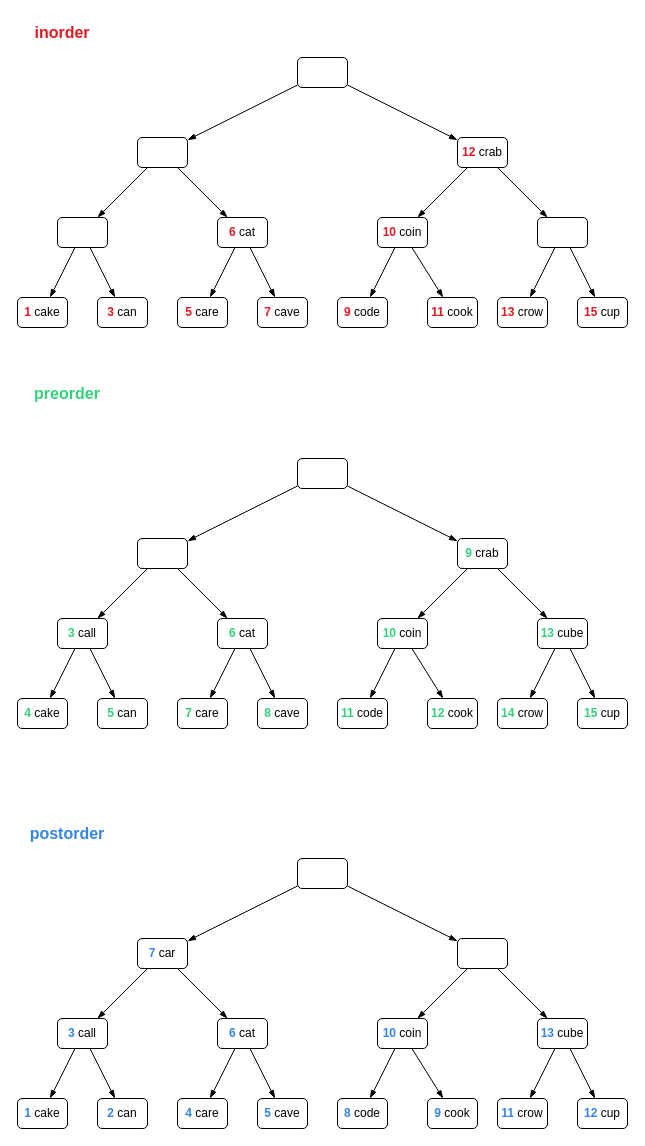
Some shapes in this 645 by 1146 pixel diagram are drawn without their labels. Here are the shapes that lost their labels. From the top down, the centre of each, then its label:
point (322, 72): 8 clip
point (162, 152): 4 car
point (82, 232): 2 call
point (562, 232): 14 cube
point (322, 473): 1 clip
point (162, 553): 2 car
point (322, 873): 15 clip
point (482, 953): 14 crab
